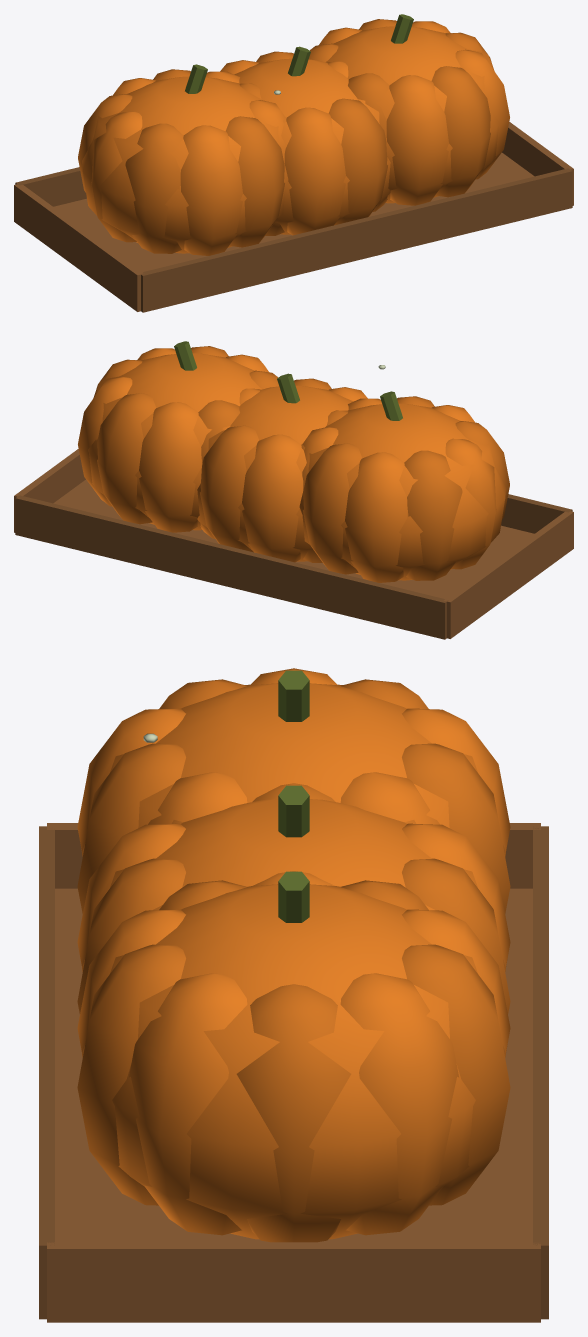
The model's file is Veg_Pumpkin.fbx.
The picture shows the model from 3 angles, top to bottom: view 1: azimuth 30°, elevation 25°; view 2: azimuth 150°, elevation 25°; view 3: azimuth 270°, elevation 25°; orthographic projection. The views are drawn at different scales.
Visible parts, largest first — view 1: Veg_Pumpkin__Stack, Veg_Pumpkin; view 2: Veg_Pumpkin__Stack, Veg_Pumpkin; view 3: Veg_Pumpkin__Stack, Veg_Pumpkin.
Boxes of the visible parts, bbox=[...] form: Veg_Pumpkin__Stack: bbox=[14, 14, 573, 312]; Veg_Pumpkin: bbox=[220, 46, 390, 235]; Veg_Pumpkin__Stack: bbox=[14, 341, 573, 639]; Veg_Pumpkin: bbox=[197, 373, 367, 562]; Veg_Pumpkin__Stack: bbox=[39, 668, 548, 1322]; Veg_Pumpkin: bbox=[77, 785, 510, 1013].
Bounding box in the file's own units: 0.4968 × 0.1863 × 0.2514.
